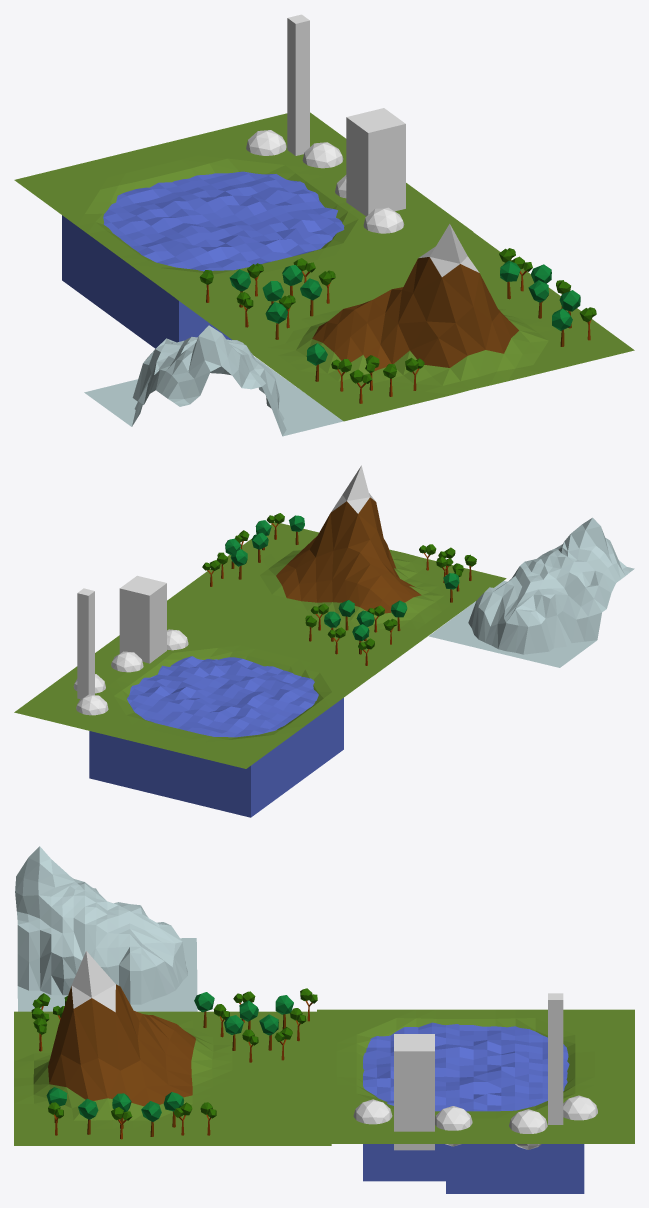
Rendered from mountainside.fbx.
3 views of the same model, one above another, from view 1: azimuth 30°, elevation 25°; view 2: azimuth 150°, elevation 25°; view 3: azimuth 270°, elevation 25° (orthographic). The views are drawn at different scales.
Parts seen in each view (by area): view 1: Plane, Cube.002, Plane.002, Plane.001, Cube, Cube.001, Icosphere.041, Icosphere.044, Icosphere.043; view 2: Plane, Cube.002, Plane.002, Plane.001, Cube, Cube.001, Icosphere.042, Icosphere.044; view 3: Plane, Plane.002, Cube.002, Plane.001, Cube, Cube.001, Icosphere.043, Icosphere.042, Icosphere.041, Icosphere.044.
Boxes of the visible parts, left/top/right/bottom form: Plane: left=177, top=224, right=634, bottom=421; Cube.002: left=62, top=171, right=344, bottom=348; Plane.002: left=14, top=112, right=472, bottom=302; Plane.001: left=84, top=325, right=343, bottom=436; Cube: left=346, top=108, right=405, bottom=216; Cube.001: left=287, top=14, right=309, bottom=155; Icosphere.041: left=363, top=207, right=404, bottom=233; Icosphere.044: left=246, top=130, right=286, bottom=155; Icosphere.043: left=302, top=142, right=343, bottom=168; Plane: left=167, top=465, right=506, bottom=674; Cube.002: left=89, top=656, right=343, bottom=817; Plane.002: left=14, top=619, right=379, bottom=768; Plane.001: left=429, top=517, right=634, bottom=667; Cube: left=119, top=575, right=166, bottom=663; Cube.001: left=77, top=588, right=94, bottom=699; Icosphere.042: left=111, top=651, right=143, bottom=672; Icosphere.044: left=76, top=694, right=108, bottom=715; Plane: left=14, top=951, right=331, bottom=1145; Plane.002: left=317, top=1009, right=634, bottom=1143; Cube.002: left=363, top=1022, right=584, bottom=1193; Plane.001: left=15, top=846, right=197, bottom=1011; Cube: left=394, top=1034, right=434, bottom=1150; Cube.001: left=548, top=993, right=563, bottom=1124; Icosphere.043: left=509, top=1109, right=547, bottom=1149; Icosphere.042: left=435, top=1106, right=472, bottom=1146; Icosphere.041: left=353, top=1099, right=392, bottom=1124; Icosphere.044: left=563, top=1095, right=597, bottom=1120.
Bounding box in the file's own units: 1687 × 778 × 2113.
